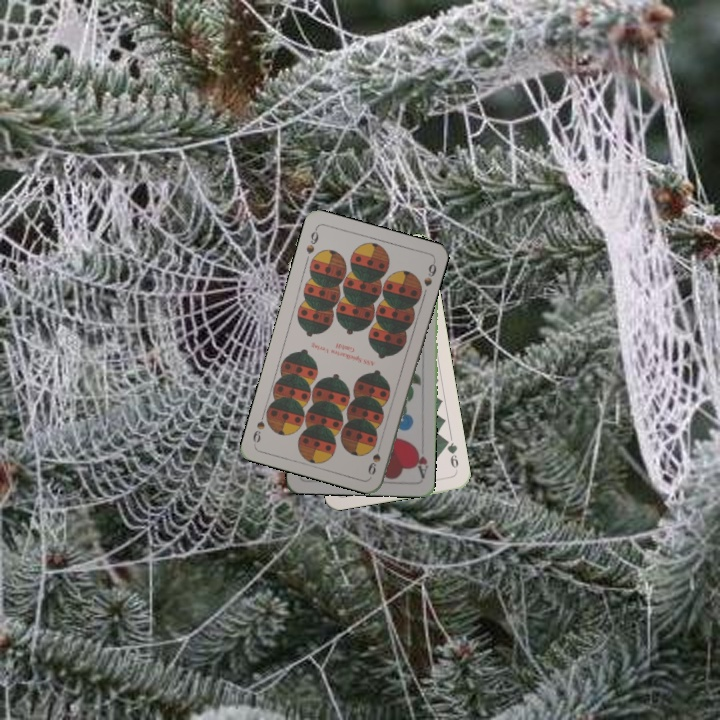G9: (441, 435, 461, 471)
HA: (411, 442, 430, 481)
S9: (364, 438, 384, 478), (302, 224, 321, 256)
